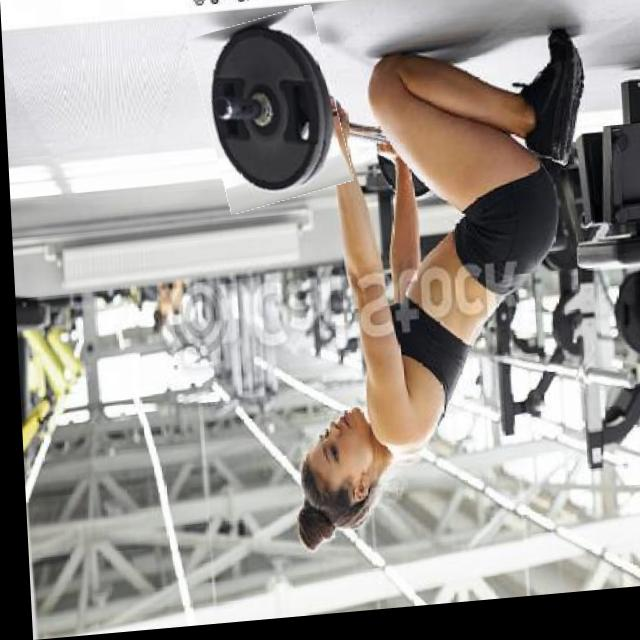barbell: (196, 15, 345, 216)
